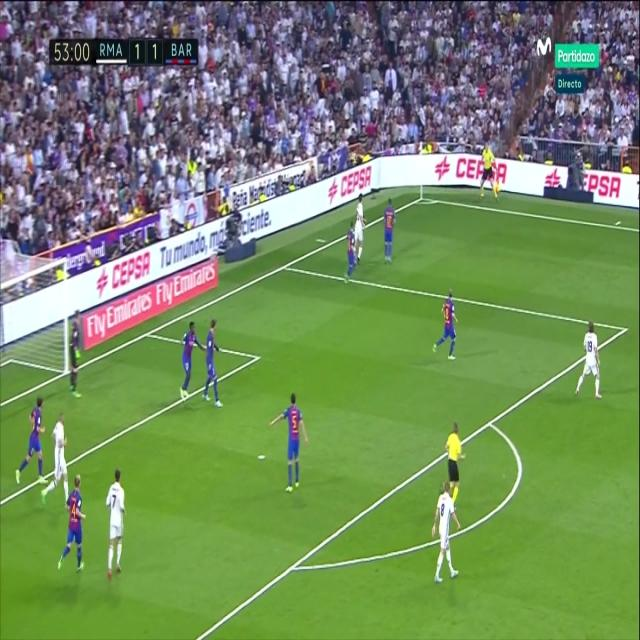Goalkeeper: (68, 306, 85, 402)
Player: (268, 390, 310, 494), (12, 394, 52, 492), (430, 482, 463, 588), (56, 472, 89, 575), (104, 468, 130, 584), (40, 412, 72, 504), (573, 320, 603, 398), (178, 319, 205, 405), (203, 315, 226, 413), (431, 290, 462, 361), (381, 194, 399, 267), (354, 192, 368, 268), (343, 222, 358, 284)
Referee: (442, 419, 468, 508), (478, 138, 500, 205)
